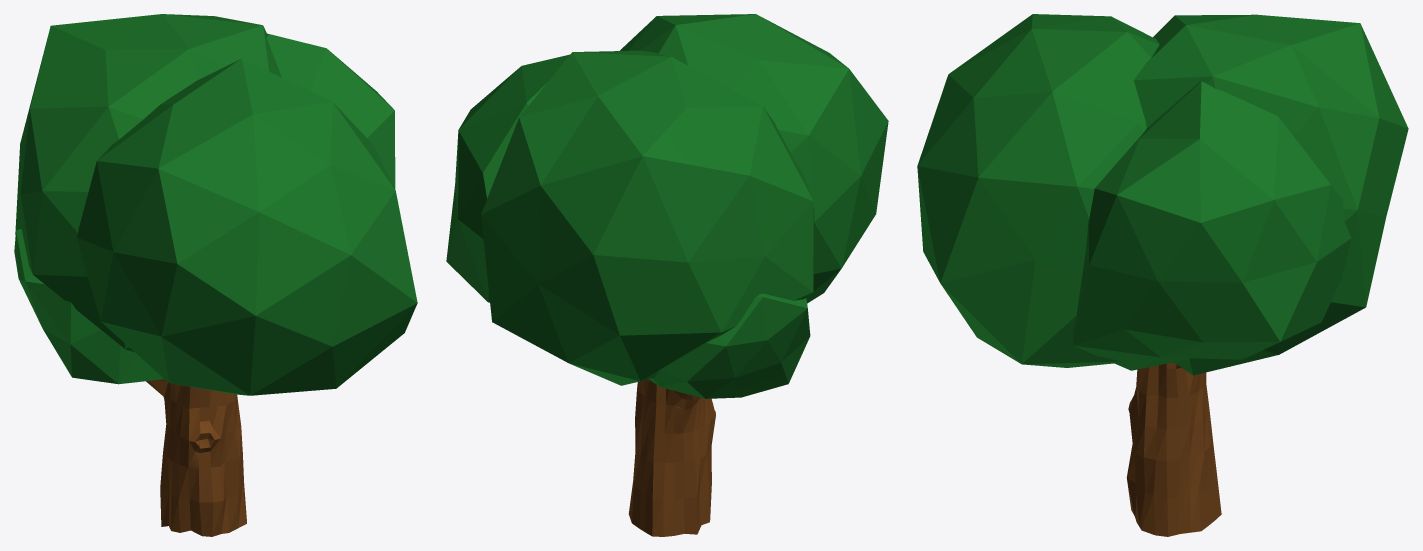
File: Tree2.dae
3 views of the same model, side by side, from view 1: azimuth 30°, elevation 25°; view 2: azimuth 150°, elevation 25°; view 3: azimuth 270°, elevation 25° (orthographic). The views are drawn at different scales.
Visible parts, largest first — view 1: Icosphere, Cylinder; view 2: Icosphere, Cylinder; view 3: Icosphere, Cylinder.
Part boxes in pixels (left/top/right/bottom): Icosphere: left=14, top=14, right=417, bottom=395; Cylinder: left=146, top=379, right=246, bottom=536; Icosphere: left=446, top=14, right=888, bottom=398; Cylinder: left=628, top=379, right=715, bottom=536; Icosphere: left=917, top=14, right=1408, bottom=375; Cylinder: left=1126, top=362, right=1221, bottom=536.
Bounding box in the file's own units: 16.5 × 19.57 × 21.82.
2 materials, 2 textured.
